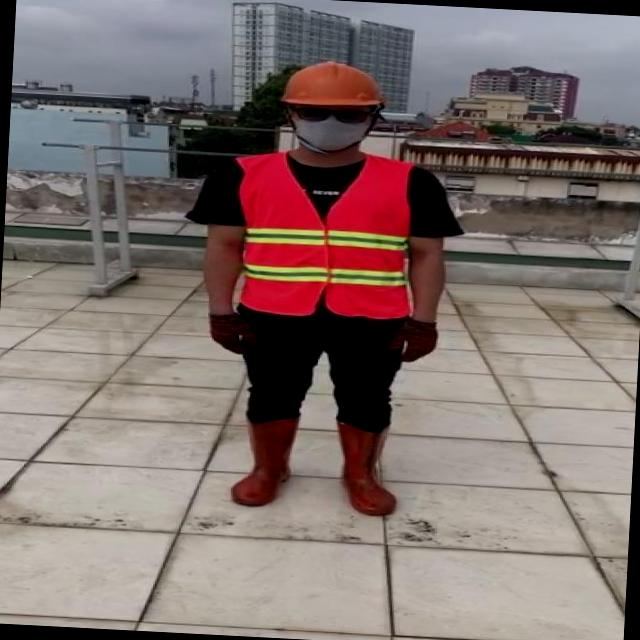boots: (331, 419, 404, 518), (228, 414, 297, 508)
helmet: (280, 56, 392, 113)
vest: (230, 150, 418, 320)
